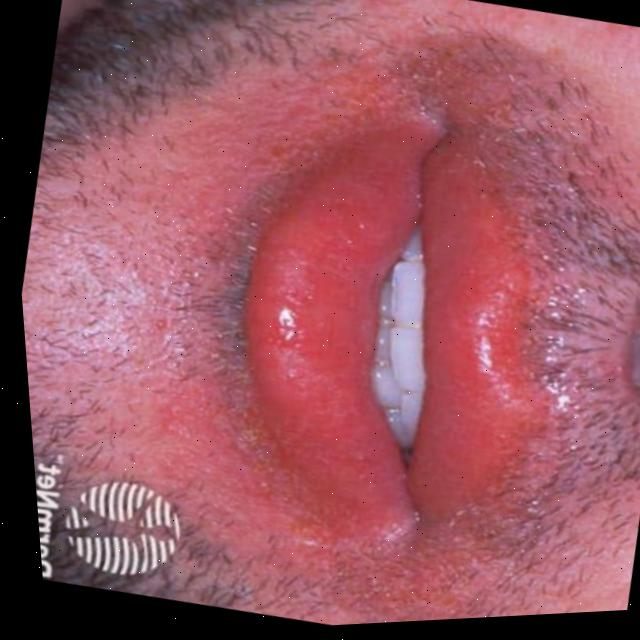Eczema: (110, 1, 640, 634)
